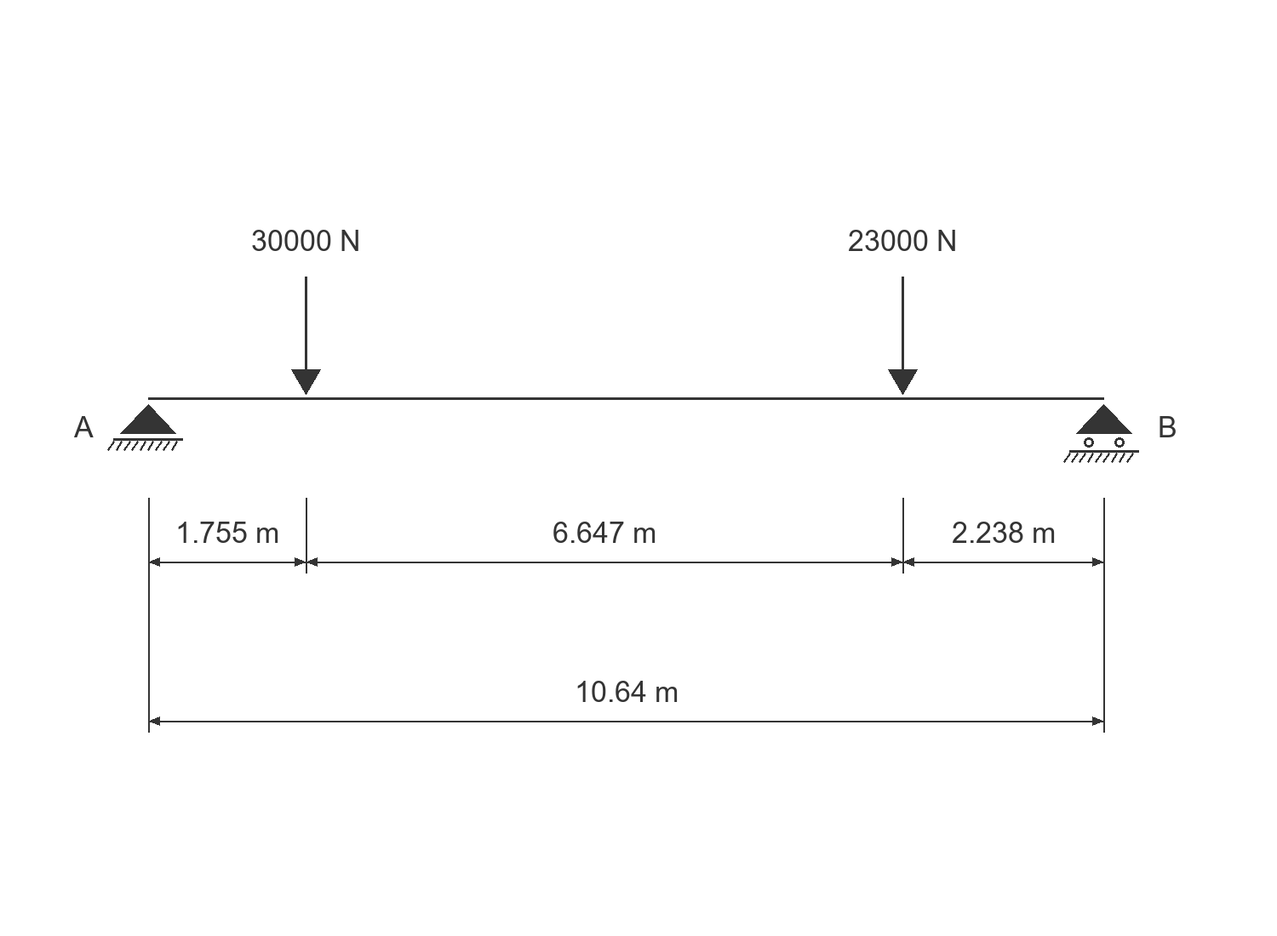pin_support: (107, 404, 183, 451)
point_load: (291, 277, 321, 395), (888, 277, 918, 395)
roller_support: (1063, 404, 1139, 463)
